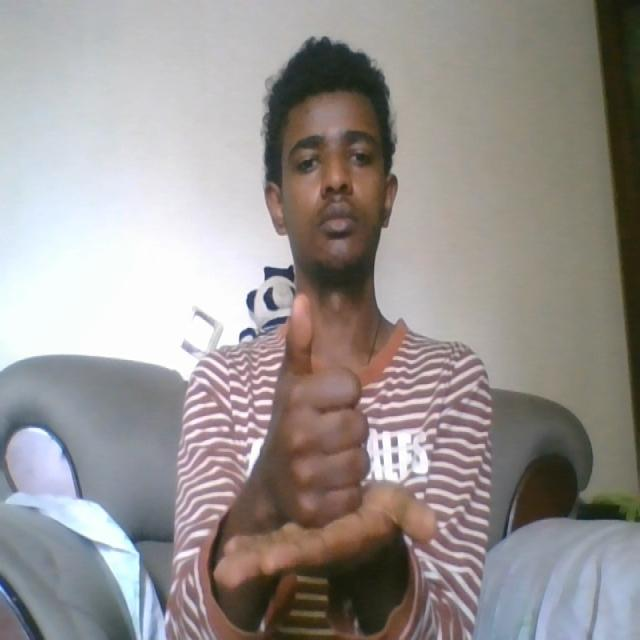amen: (208, 292, 442, 596)
